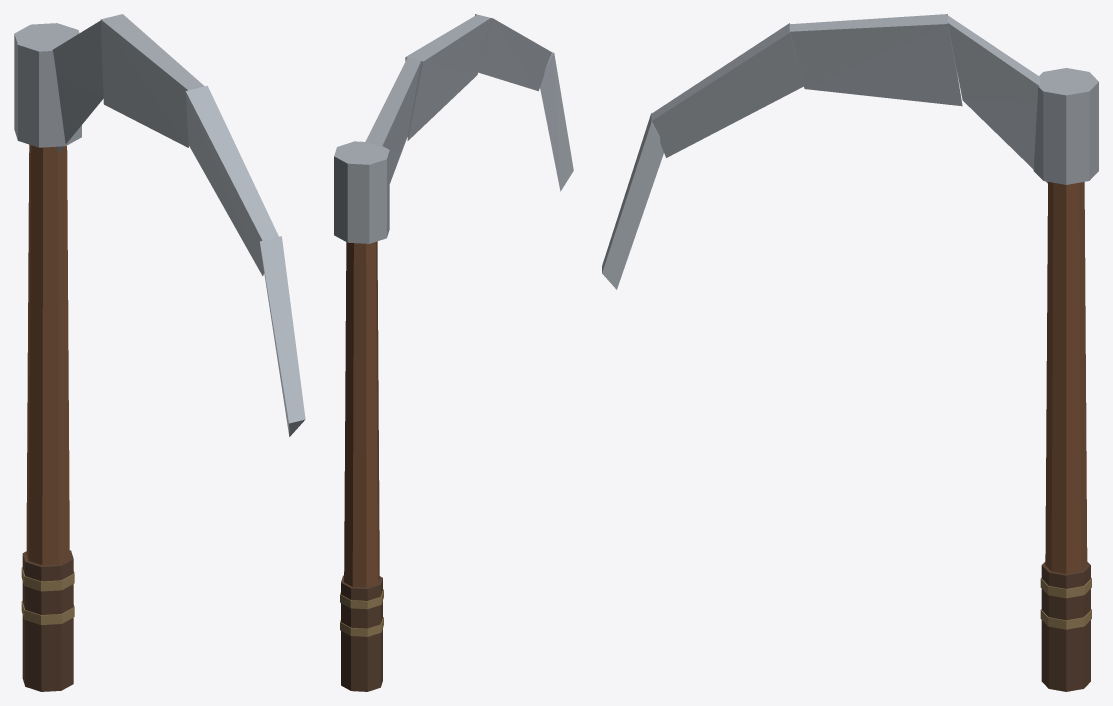
The model's file is tool_scythe_iron.glb.
3 views of the same model, side by side, from view 1: azimuth 30°, elevation 25°; view 2: azimuth 150°, elevation 25°; view 3: azimuth 270°, elevation 25° (orthographic). The views are drawn at different scales.
Parts seen in each view (by area): view 1: tool_scythe_iron; view 2: tool_scythe_iron; view 3: tool_scythe_iron.
Boxes of the visible parts, x1,y1,x2,y2 form: tool_scythe_iron: (14,14,305,691); tool_scythe_iron: (334,14,573,691); tool_scythe_iron: (602,14,1098,691).
Bounding box in the file's own units: 0.066 × 0.74 × 0.503.
